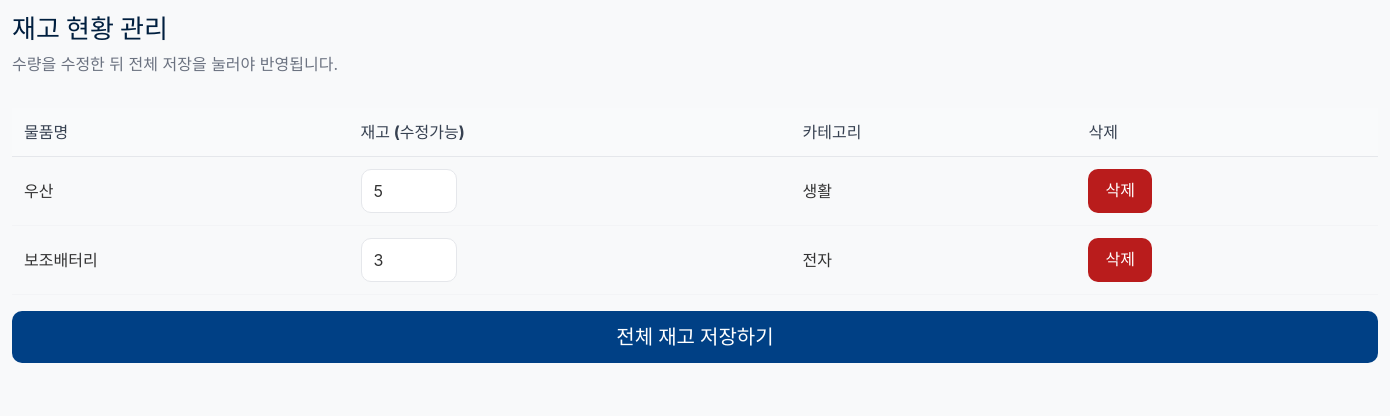
AdminStockPage › save clears dirty
The width and height of the screenshot is (1390, 416).
Clear the number field named "우산 재고" at (409, 191), box [361,169,457,213]
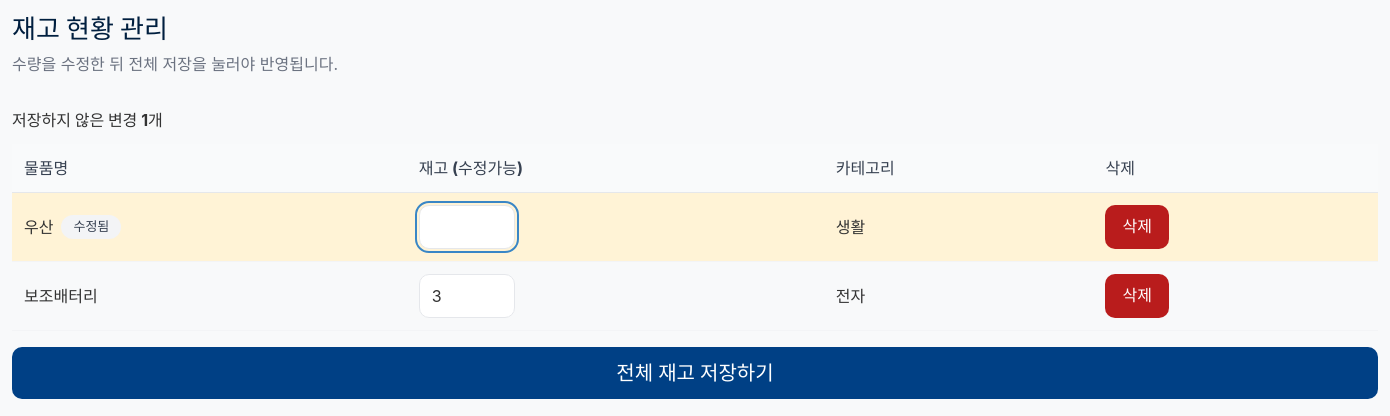
Type "4" into the number field named "우산 재고" at (467, 227), box [419,205,515,249]
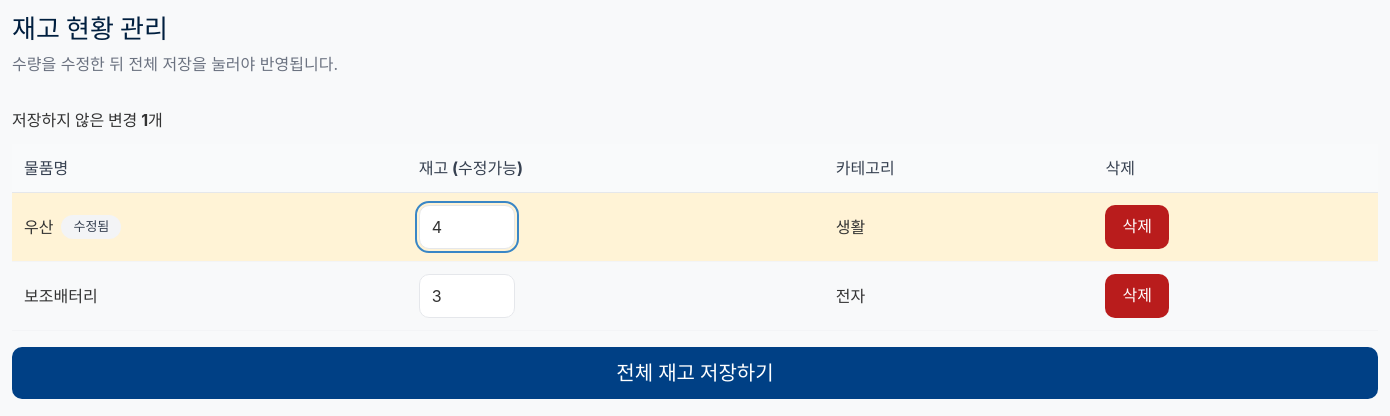
Click the button "전체 재고 저장하기" at (695, 373), box [12,347,1378,399]
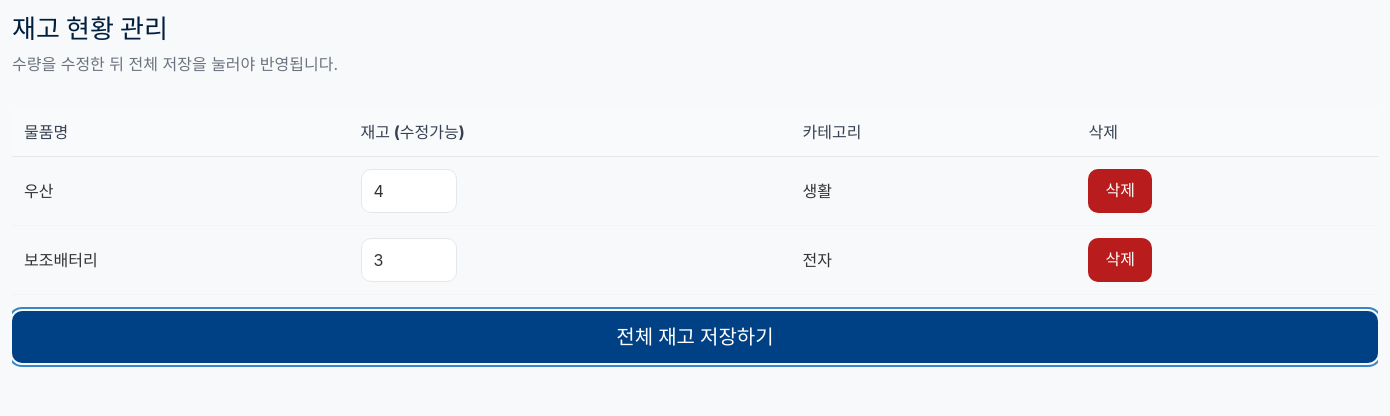
Now the text "저장하지 않은 변경" is gone
